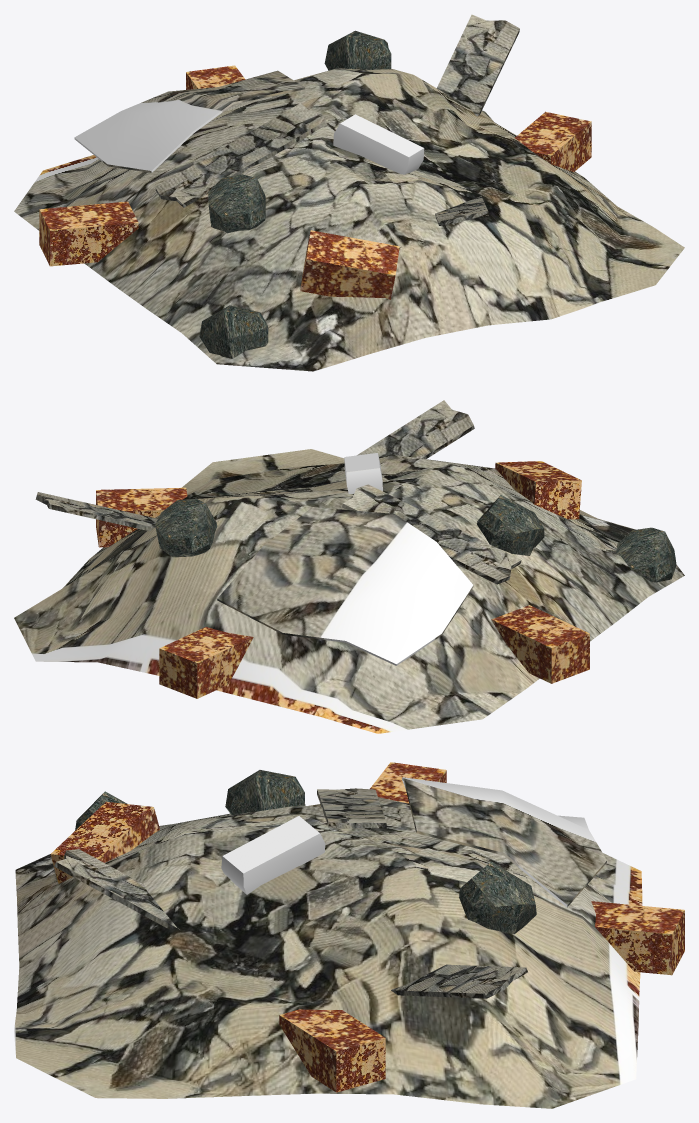
File: smece_2.fbx
3 renders of one model, top to bottom at view 1: azimuth 30°, elevation 25°; view 2: azimuth 150°, elevation 25°; view 3: azimuth 270°, elevation 25°, orthographic. The views are drawn at different scales.
Parts seen in each view (by area): view 1: Plane.003; view 2: Plane.003; view 3: Plane.003.
Boxes of the visible parts, <box> form: Plane.003: <box>14,14,684,371</box>; Plane.003: <box>14,400,684,733</box>; Plane.003: <box>14,762,684,1108</box>.
Size of the model in its own units: 359 by 91.38 by 351.
1 material, 1 textured.
